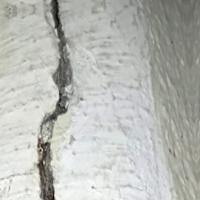crack: (25, 1, 76, 199)
